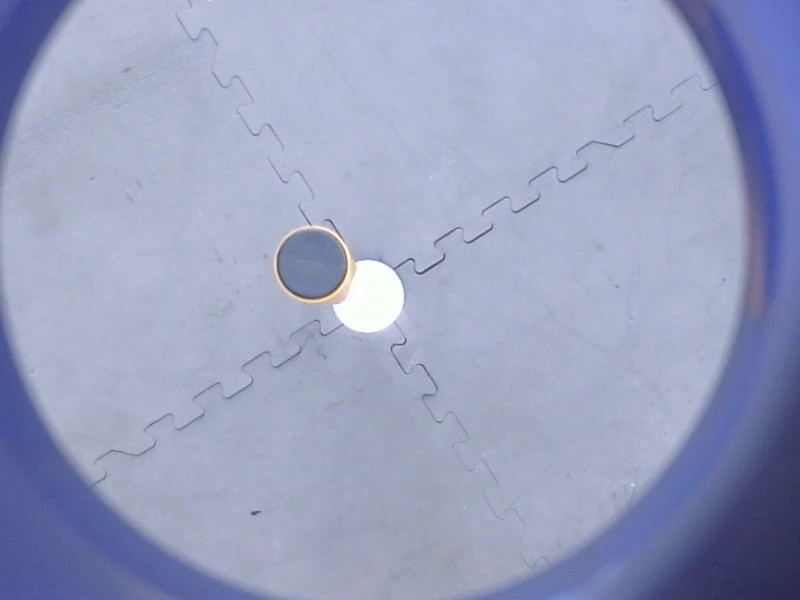tip: (268, 222, 357, 311)
